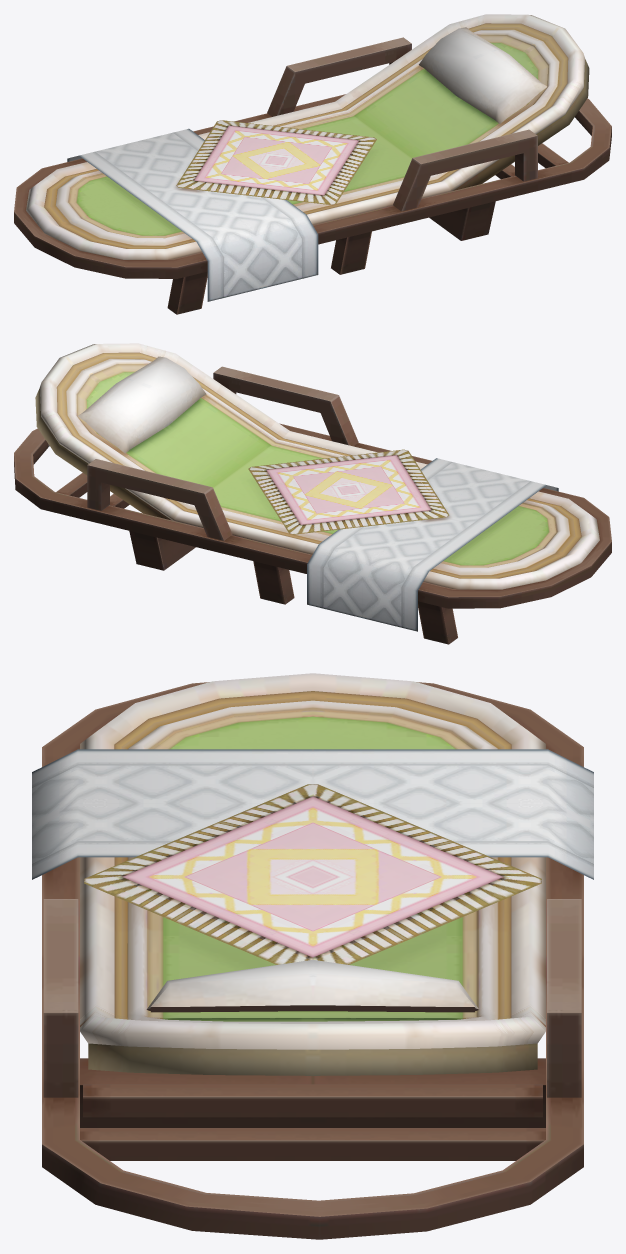
File: my_sunshineresort_01_sunbed_01.glb
3 views of the same model, one above another, from view 1: azimuth 30°, elevation 25°; view 2: azimuth 150°, elevation 25°; view 3: azimuth 270°, elevation 25° (orthographic). The views are drawn at different scales.
Parts seen in each view (by area): view 1: my_sunshineresort_01_sunbed_01; view 2: my_sunshineresort_01_sunbed_01; view 3: my_sunshineresort_01_sunbed_01.
Boxes of the visible parts, box(x1,y1,x2,y2) form: my_sunshineresort_01_sunbed_01: box(14, 14, 611, 314); my_sunshineresort_01_sunbed_01: box(14, 343, 611, 644); my_sunshineresort_01_sunbed_01: box(32, 673, 593, 1239).
Size of the model in its own units: 0.0117 by 0.00258 by 0.00512.
1 material, 1 textured.
